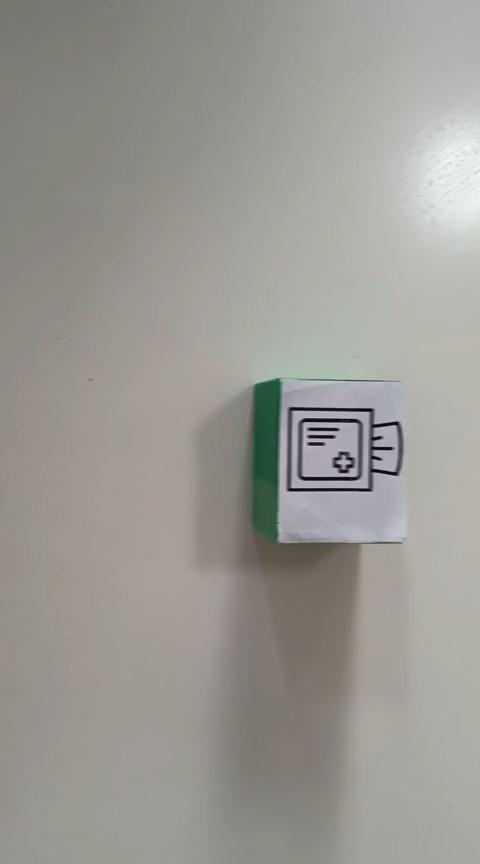Gauze: (251, 376, 409, 545)
